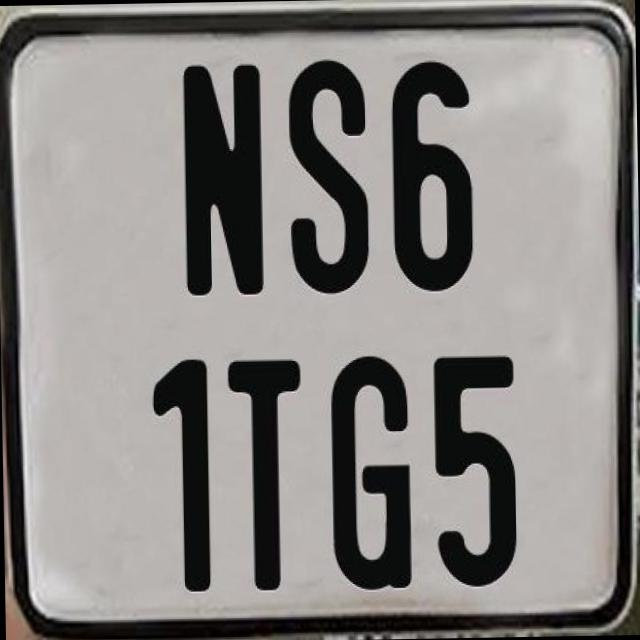1: (151, 356, 210, 594)
5: (431, 354, 518, 592)
6: (390, 58, 478, 292)
G: (330, 352, 412, 596)
N: (182, 63, 268, 304)
S: (284, 57, 366, 297)
T: (223, 354, 303, 595)
